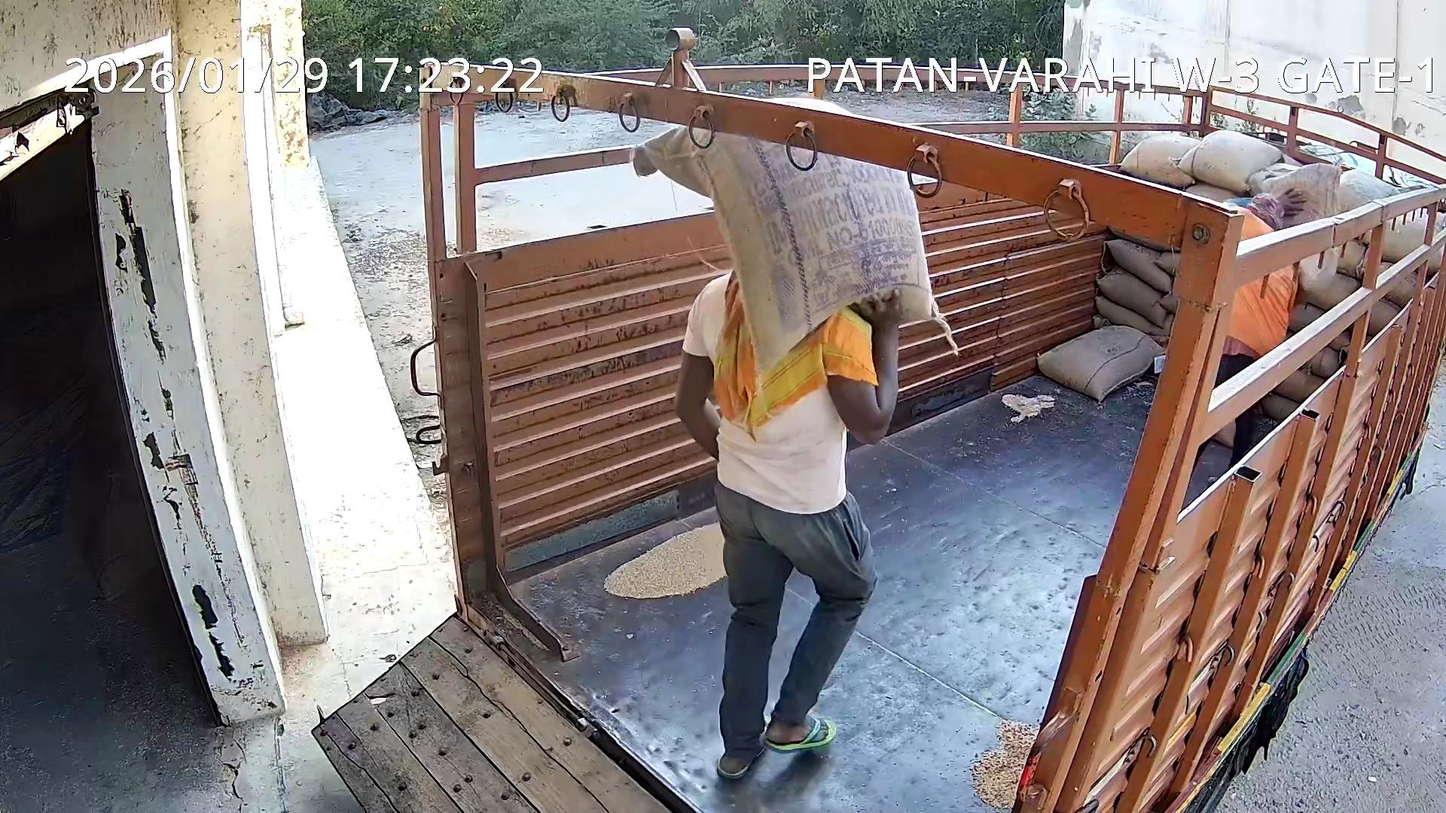Sack: (635, 115, 946, 367)
